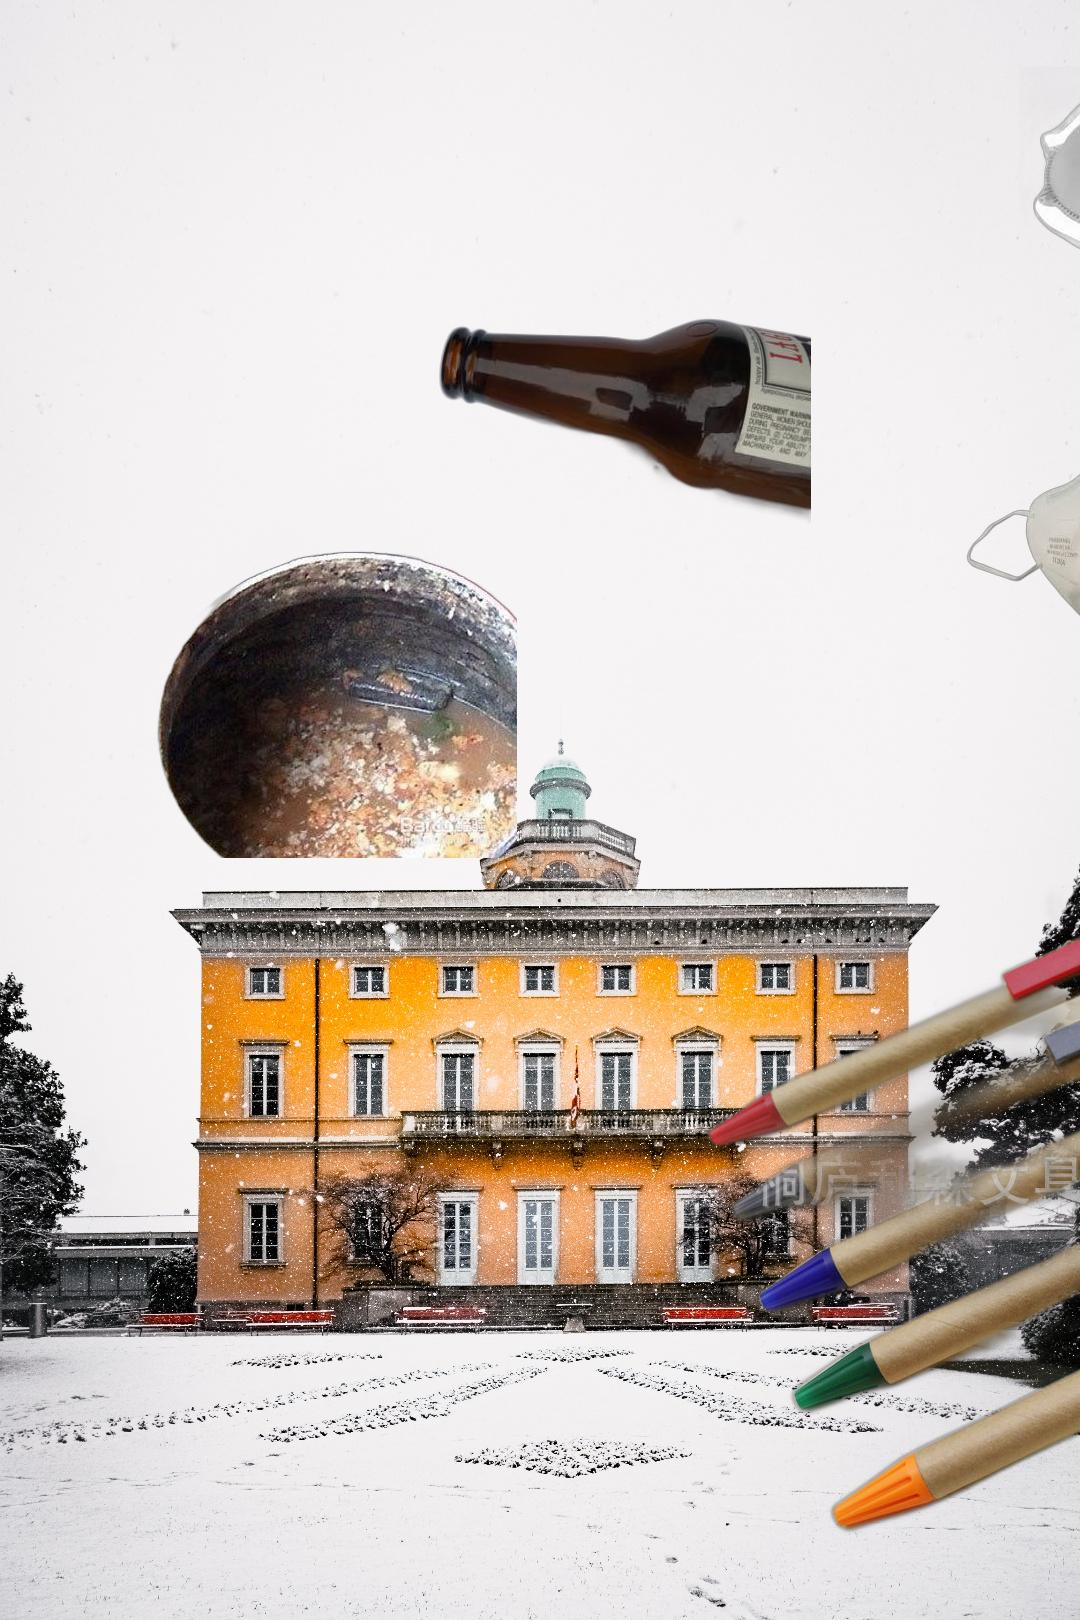biological: (155, 551, 517, 858)
glass: (436, 316, 811, 526)
penholder: (702, 873, 1080, 1538)
trash: (964, 468, 1080, 621), (1016, 66, 1080, 286)
